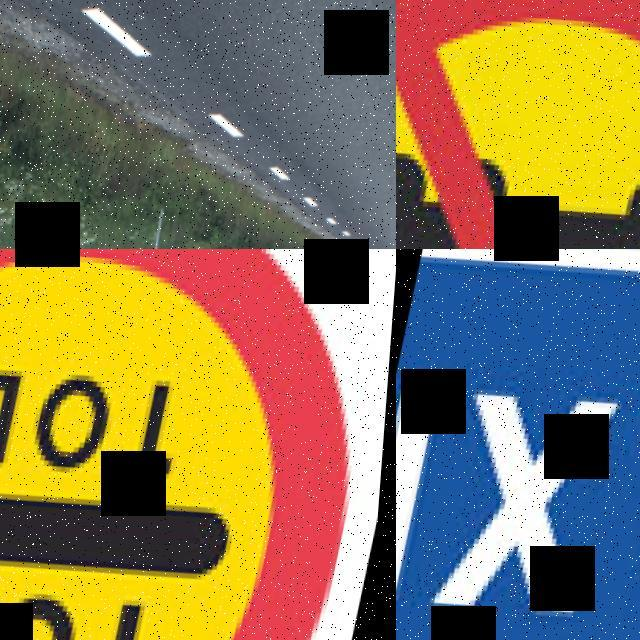123: (396, 249, 640, 640)
49: (396, 0, 640, 249)
Stop at customs: (0, 249, 396, 640)
